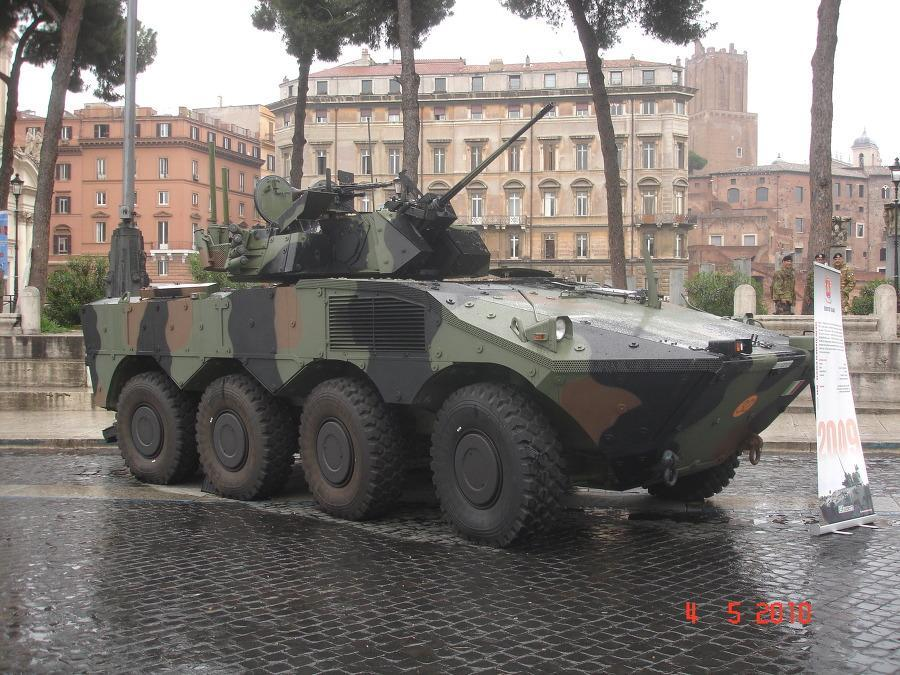MIL_IFV: (82, 171, 816, 557)
